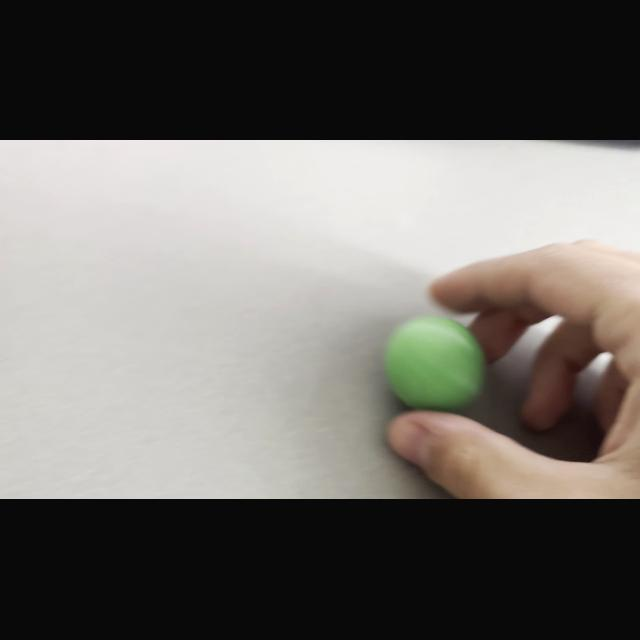objects: (378, 303, 496, 417)
